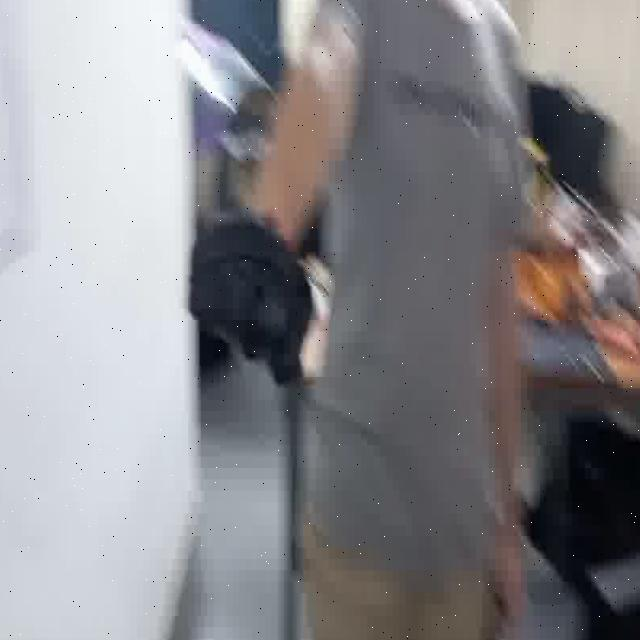Gloves: (189, 218, 334, 402)
